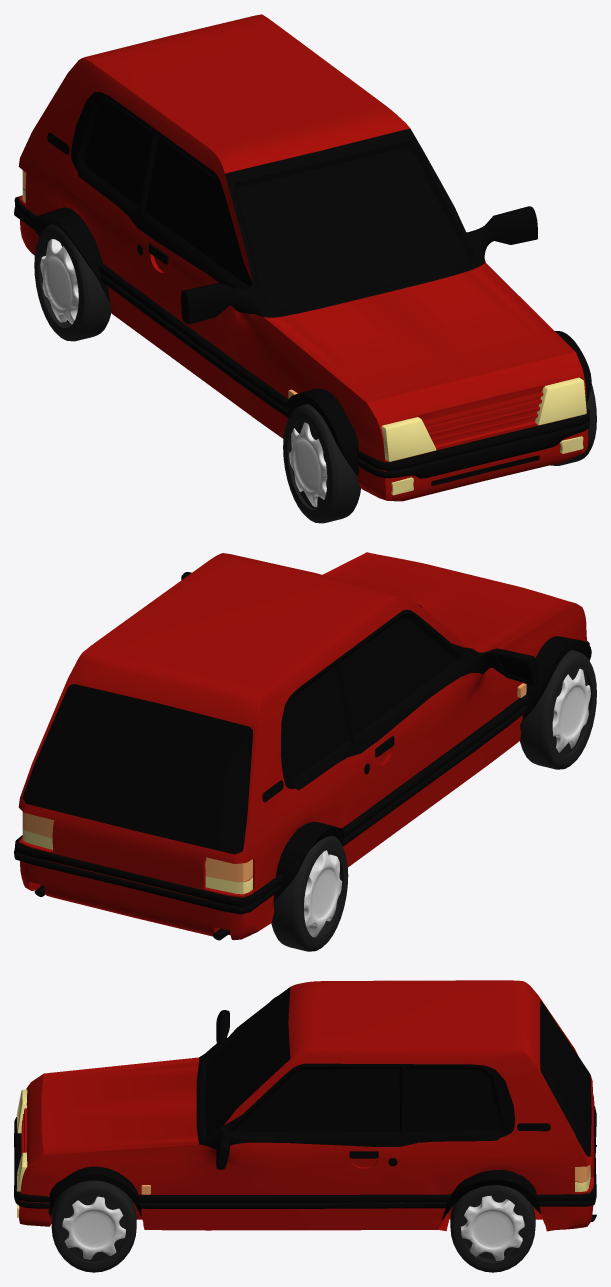
The model's file is 3d_Peugot_205.fbx.
The picture shows the model from 3 angles, top to bottom: view 1: azimuth 30°, elevation 25°; view 2: azimuth 150°, elevation 25°; view 3: azimuth 270°, elevation 25°; orthographic projection. The views are drawn at different scales.
Visible parts, largest first — view 1: 3D_Peugot_205; view 2: 3D_Peugot_205; view 3: 3D_Peugot_205.
Part boxes in pixels (bbox=[...]): 3D_Peugot_205: bbox=[14, 14, 596, 523]; 3D_Peugot_205: bbox=[14, 552, 596, 951]; 3D_Peugot_205: bbox=[14, 980, 596, 1272].
Bounding box in the file's own units: 2.05 × 1.44 × 3.66.
